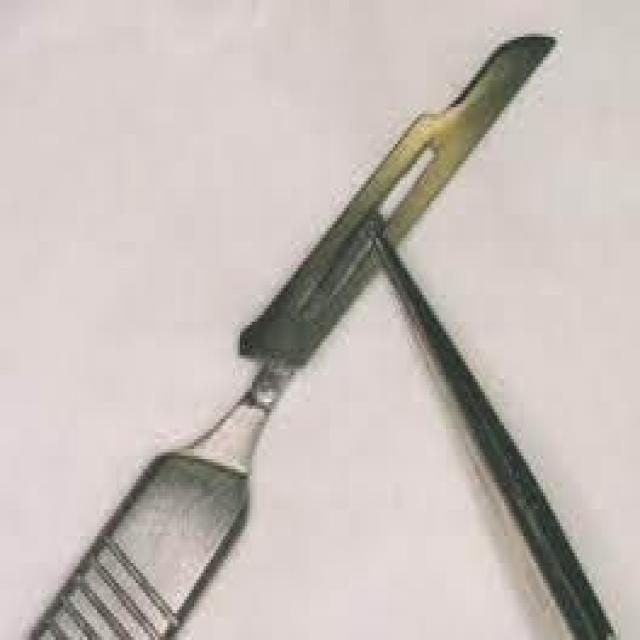Hemostat: (368, 221, 611, 633)
Scalpel: (26, 23, 562, 640)
